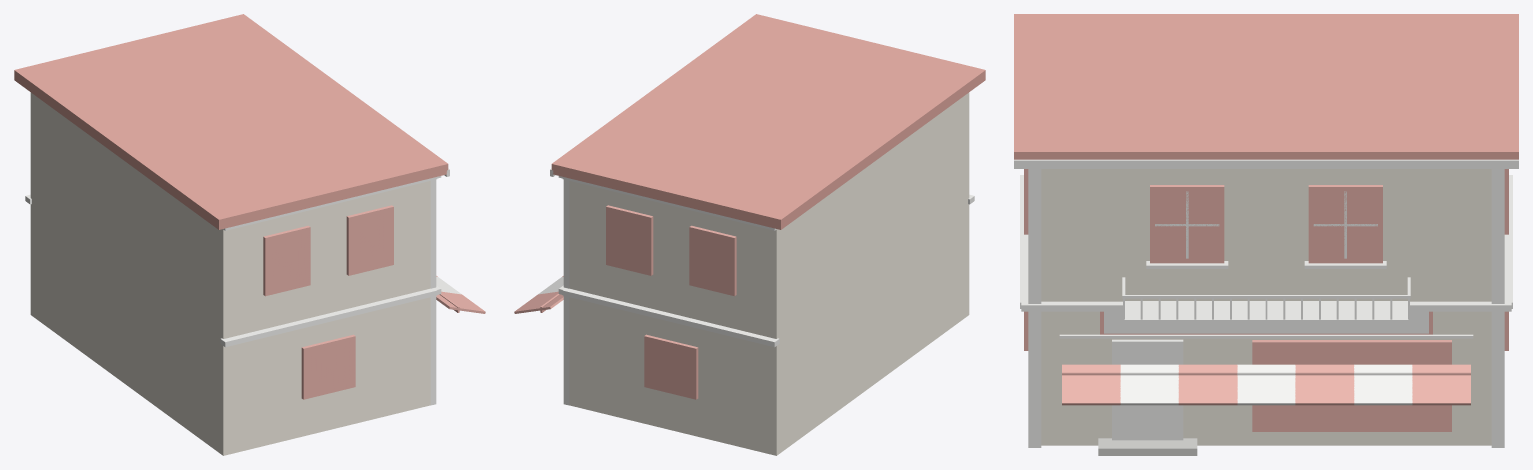
File: Shop_C.fbx
The picture shows the model from 3 angles, left to right: view 1: azimuth 30°, elevation 25°; view 2: azimuth 150°, elevation 25°; view 3: azimuth 270°, elevation 25°; orthographic projection. The views are drawn at different scales.
Visible parts, largest first — view 1: Shop_C; view 2: Shop_C; view 3: Shop_C.
Part boxes in pixels (x1,y1,x2,y2): Shop_C: (14,14,485,455); Shop_C: (514,14,985,455); Shop_C: (1014,14,1518,455).
Bounding box in the file's own units: 8.23 × 6.74 × 10.2.
